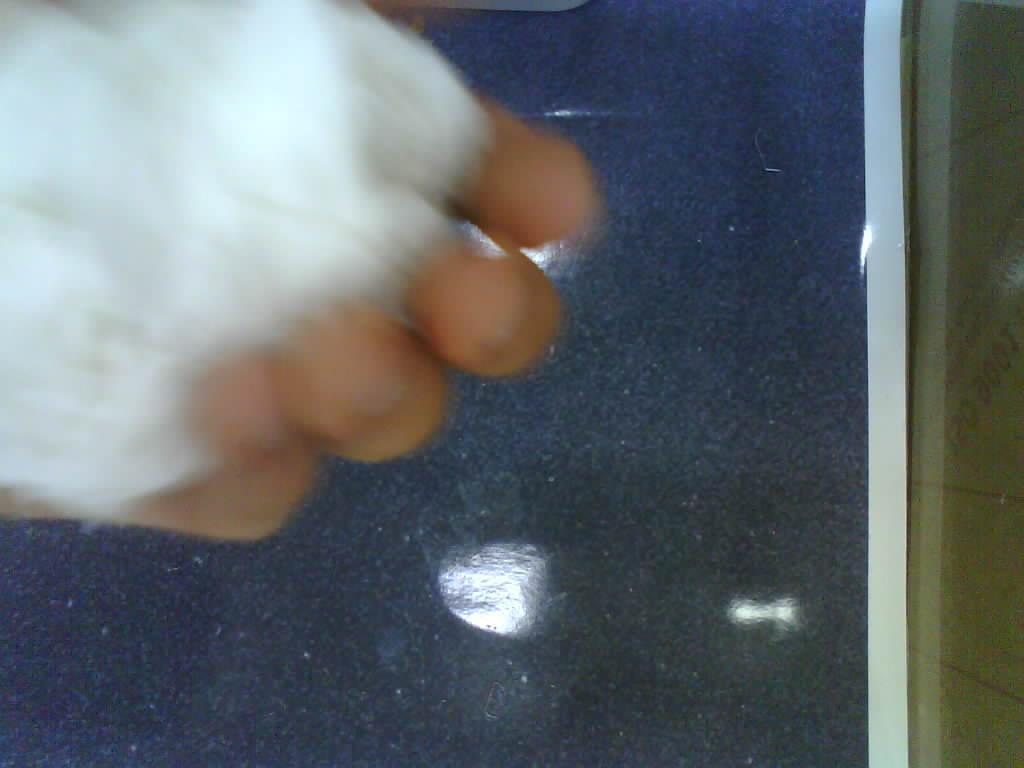paper: (0, 2, 488, 518)
